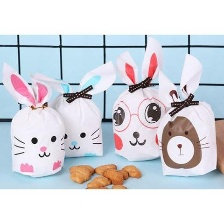snack: (26, 54, 122, 162), (151, 48, 222, 181), (106, 34, 175, 166), (0, 58, 73, 181)
